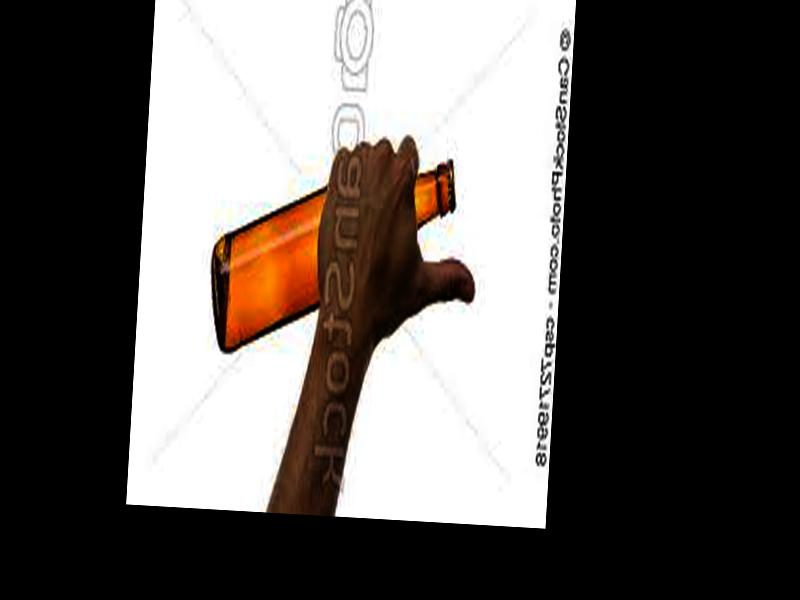Beer: (207, 149, 456, 366)
